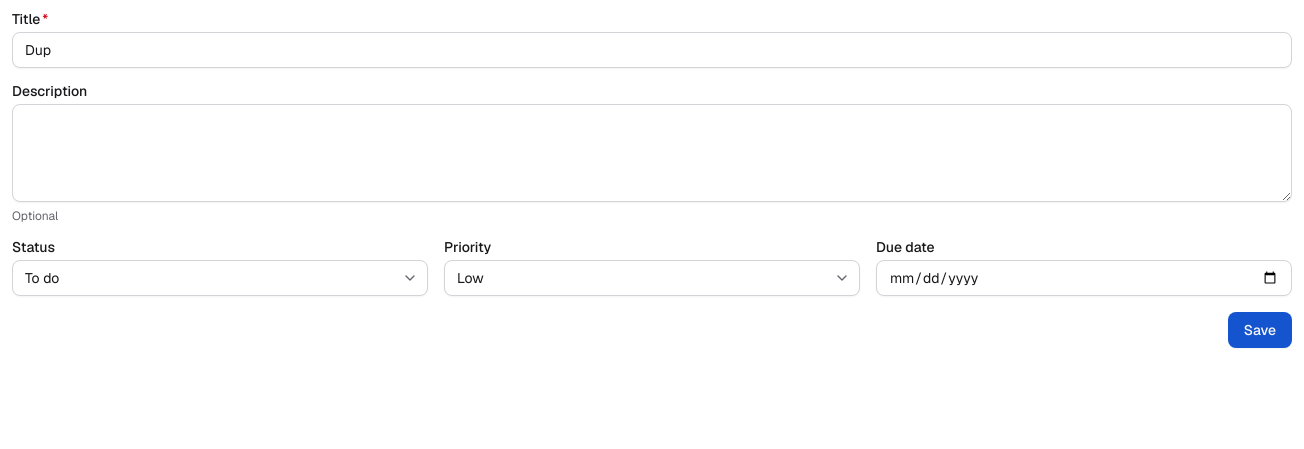
TaskForm › shows server-side field and form errors
The width and height of the screenshot is (1304, 449).
Click the button "Save": (1260,330) x1=1228 y1=312 x2=1292 y2=348
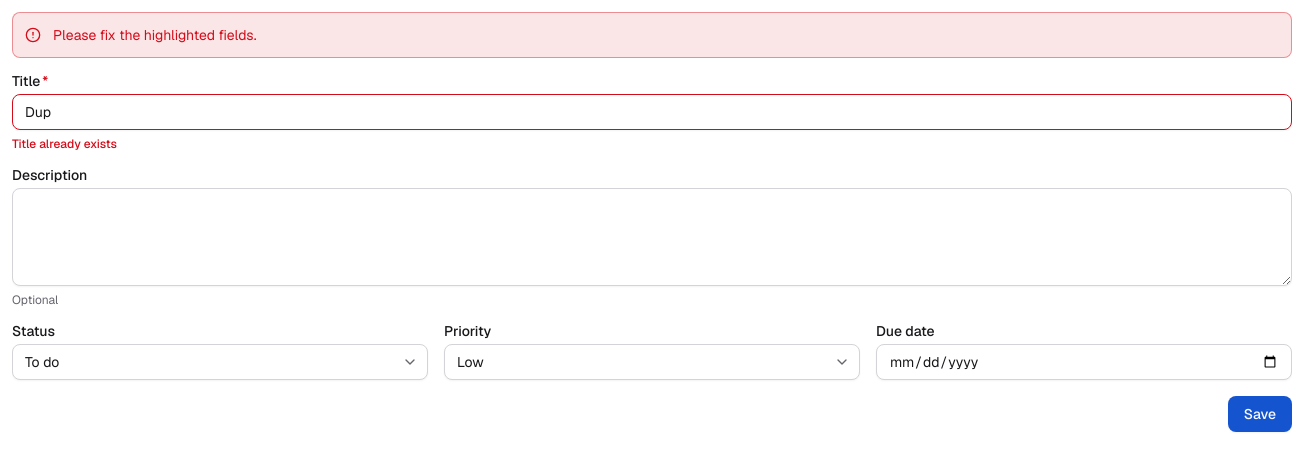
Expected: the text "Title already exists" is shown, x1=12 y1=136 x2=117 y2=152
Expected: the message reads "Please fix the highlighted fields.", x1=53 y1=26 x2=256 y2=44
